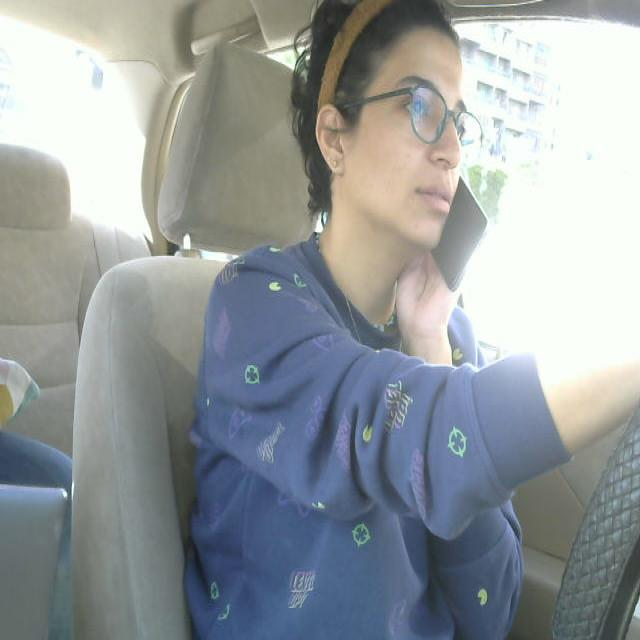mobile use: (430, 170, 492, 299)
